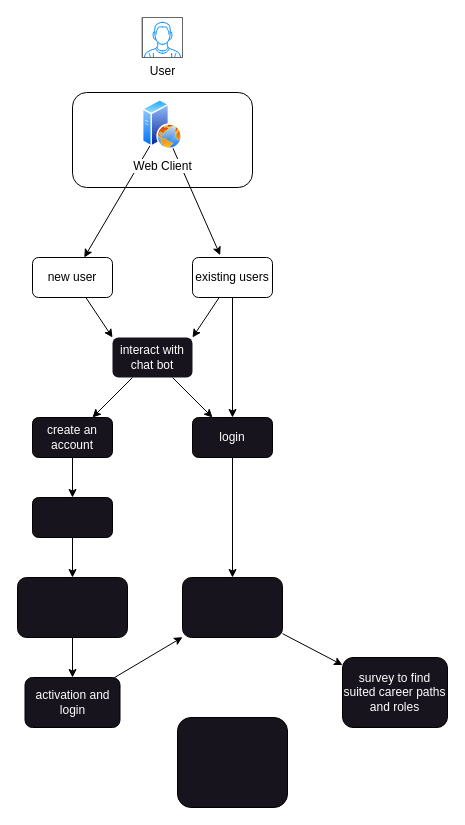
The diagram is 465 pixels wide and 825 high, and some of its shapes have lost their labels. The shapes that lost their labels are listed below. From the top down, each one's box as (x1, y1, x2, y2) in pixels, then its label:
(32, 496, 112, 538): activate account
(16, 576, 128, 638): provide bot with code sent to email
(182, 576, 282, 638): interact with personal chat bot
(176, 716, 288, 808): Search careers paths, job roles and courses
